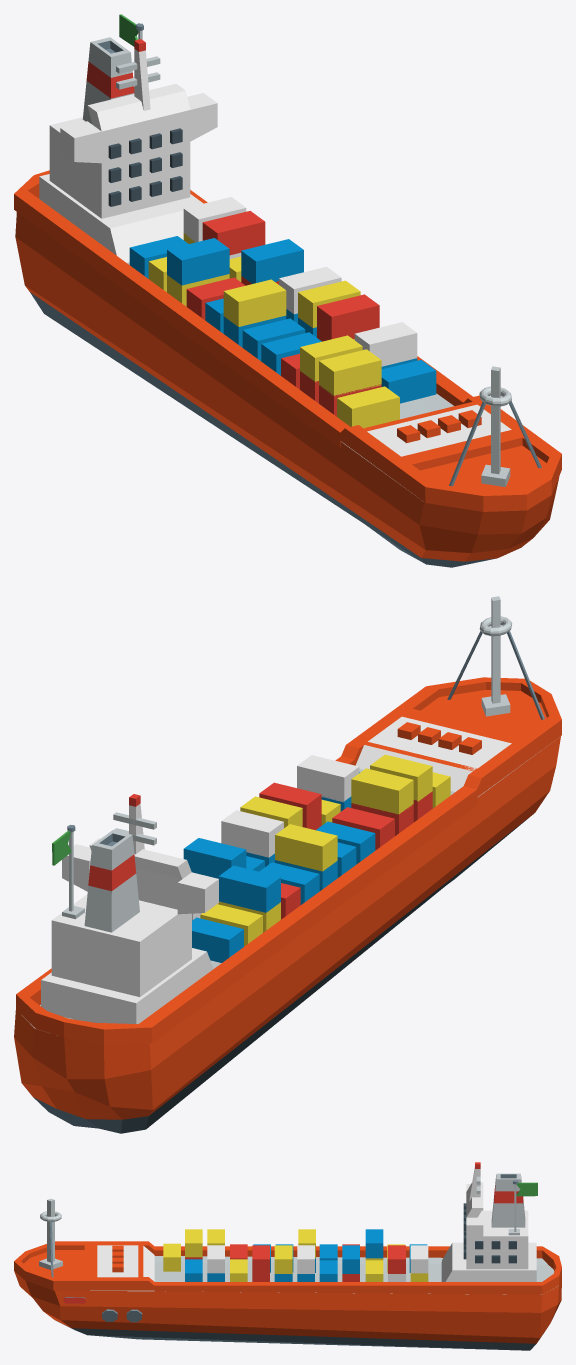
The model's file is ship.fbx.
The picture shows the model from 3 angles, top to bottom: view 1: azimuth 30°, elevation 25°; view 2: azimuth 150°, elevation 25°; view 3: azimuth 270°, elevation 25°; orthographic projection. The views are drawn at different scales.
Parts seen in each view (by area): view 1: ship; view 2: ship; view 3: ship.
Boxes of the visible parts, x1,y1,x2,y2 form: ship: [14, 14, 561, 567]; ship: [14, 596, 561, 1133]; ship: [14, 1162, 561, 1350].
Bounding box in the file's own units: 2835 × 5720 × 15795.
